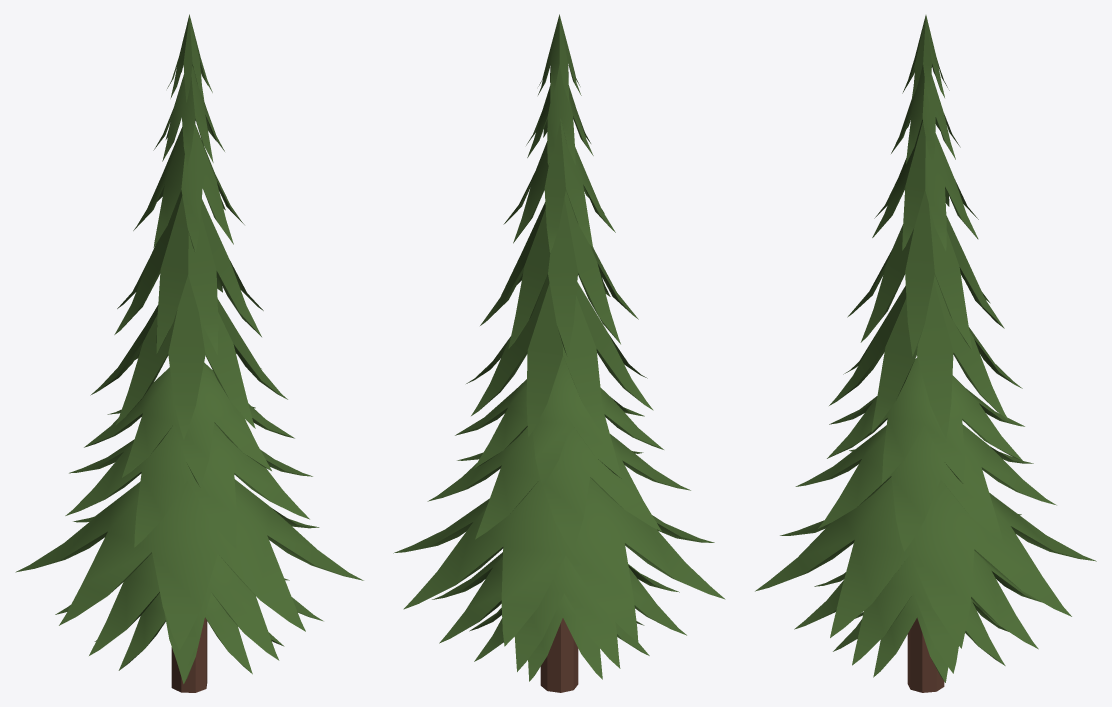
The model's file is pinetree_short.fbx.
3 renders of one model, left to right at view 1: azimuth 30°, elevation 25°; view 2: azimuth 150°, elevation 25°; view 3: azimuth 270°, elevation 25°, orthographic.
Visible parts, largest first — view 1: Tree; view 2: Tree; view 3: Tree.
Part boxes in pixels (<box>): Tree: <box>15,14,363,692</box>; Tree: <box>393,14,725,692</box>; Tree: <box>755,15,1096,692</box>.
Bounding box in the file's own units: 2.64 × 5.69 × 2.64.
